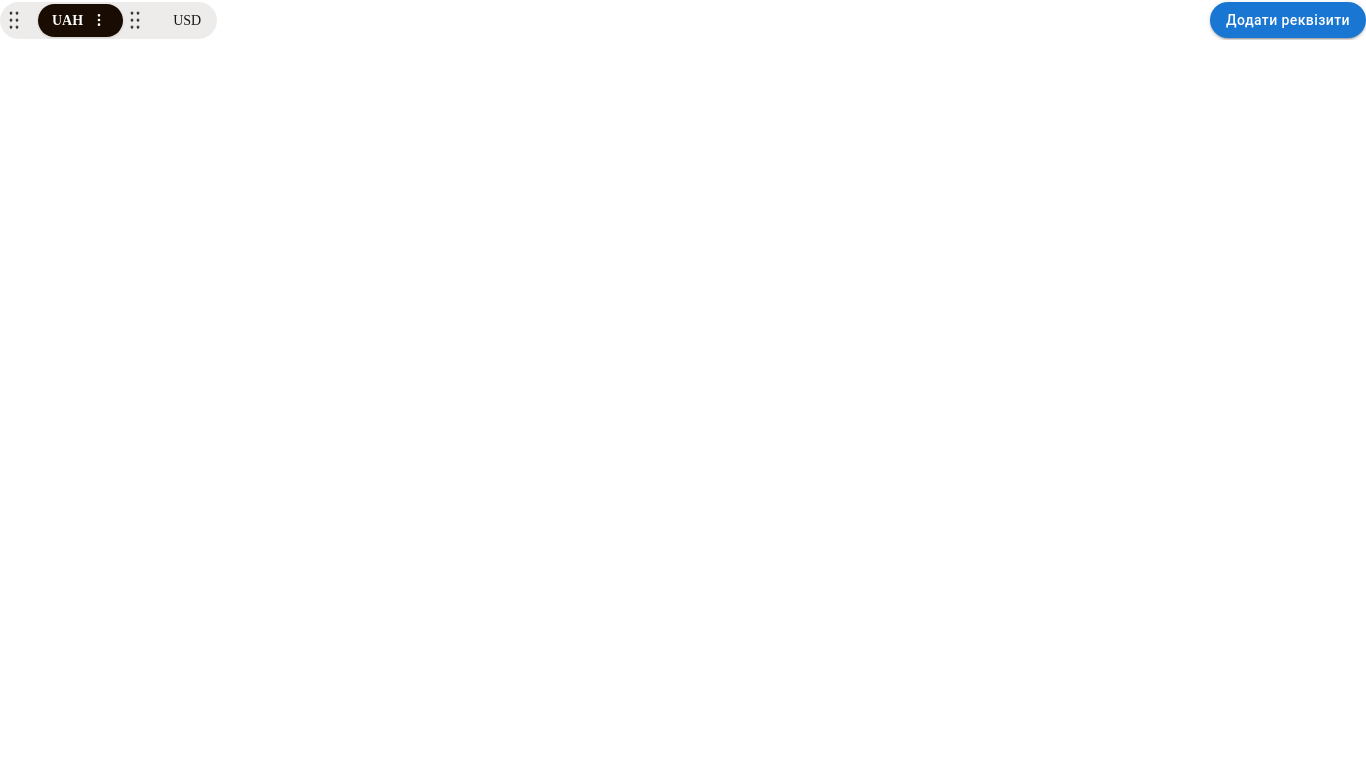
Test: CurrencyTabs › closes confirmation modal without calling onDeleteTab when canceled
What coordinates should you click on to do the following:
click the button named "Опції реквізиту"
I would click on:
 (99, 20)
Its box is [89,10,109,30].
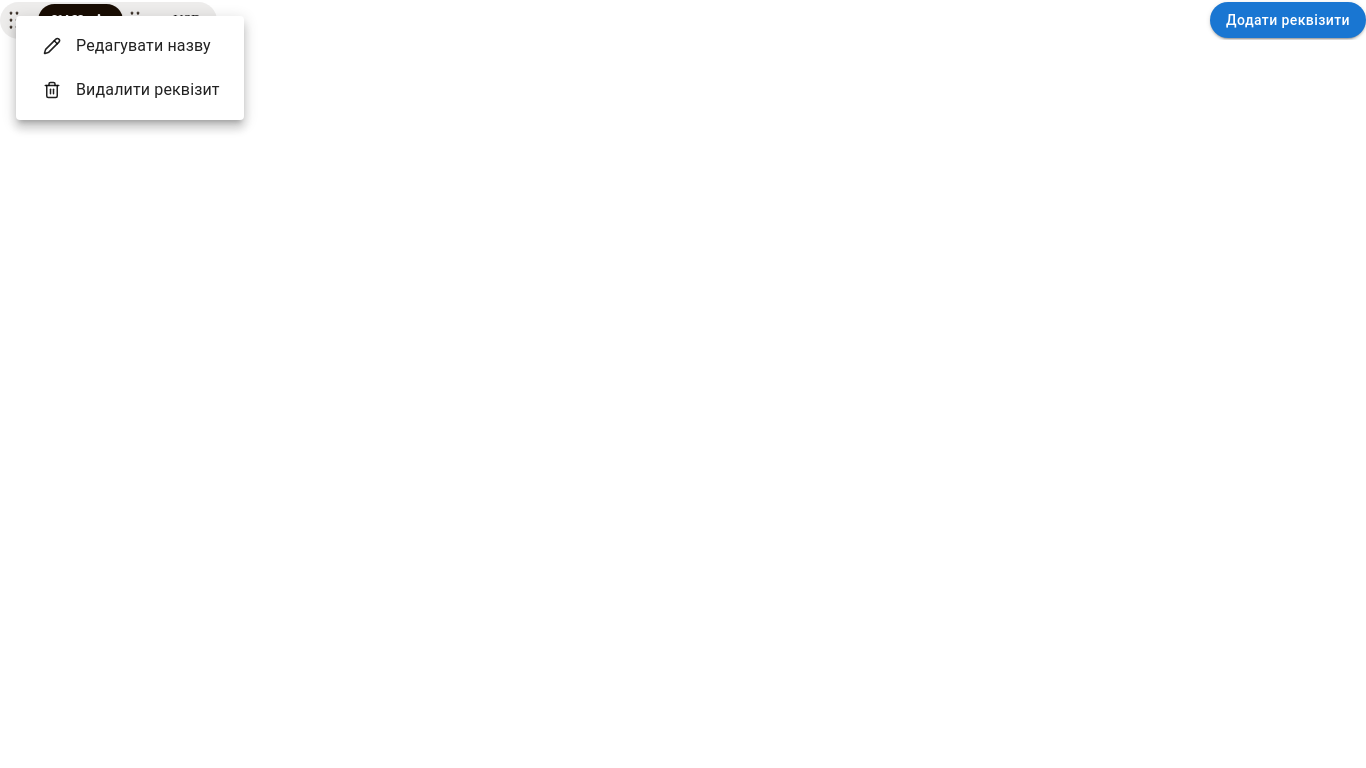
What coordinates should you click on to do the following:
click the menu item "Видалити реквізит"
I would click on:
 (131, 90)
Its box is [43,80,220,99].
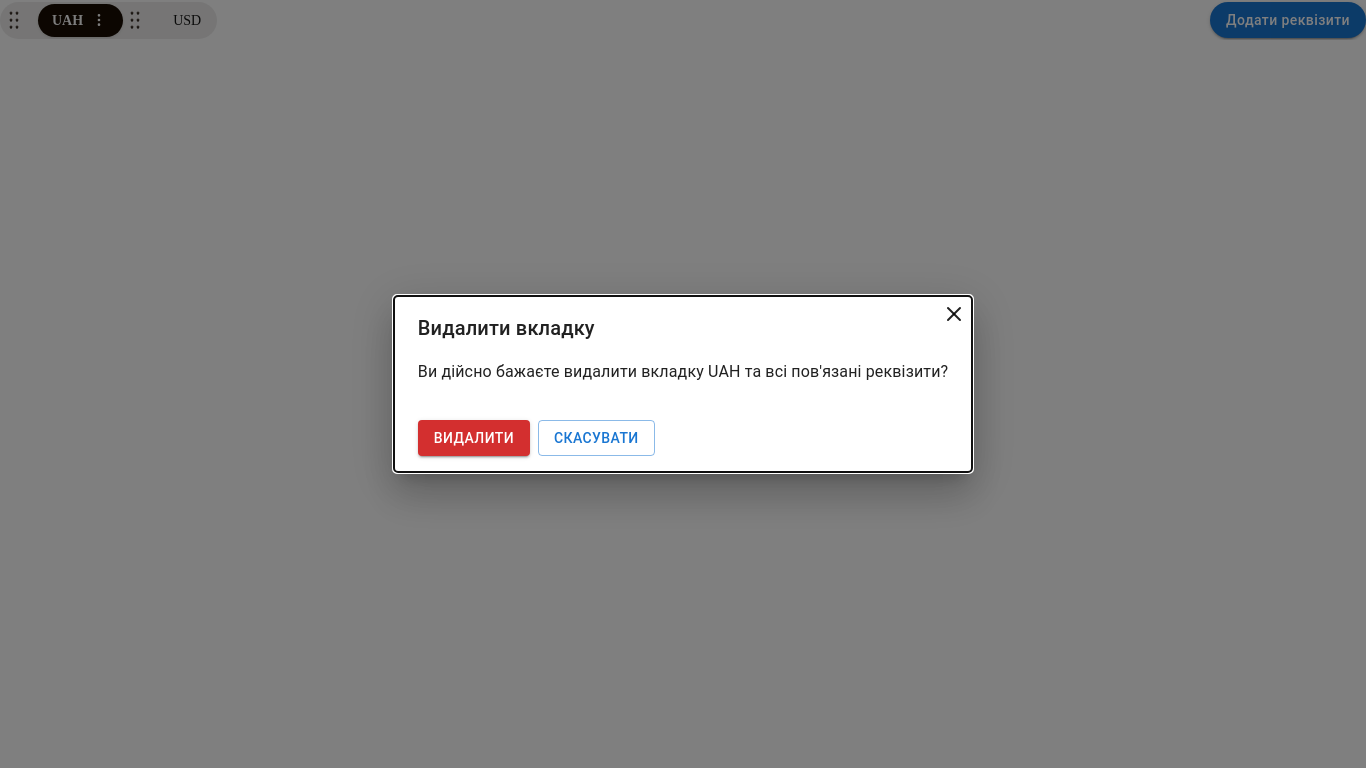
Expected: the heading "Видалити вкладку" is shown, [418,316,595,340]
What coordinates should you click on to do the following:
click the button "Скасувати"
I would click on:
 (596, 438)
Its box is [538,420,655,456].
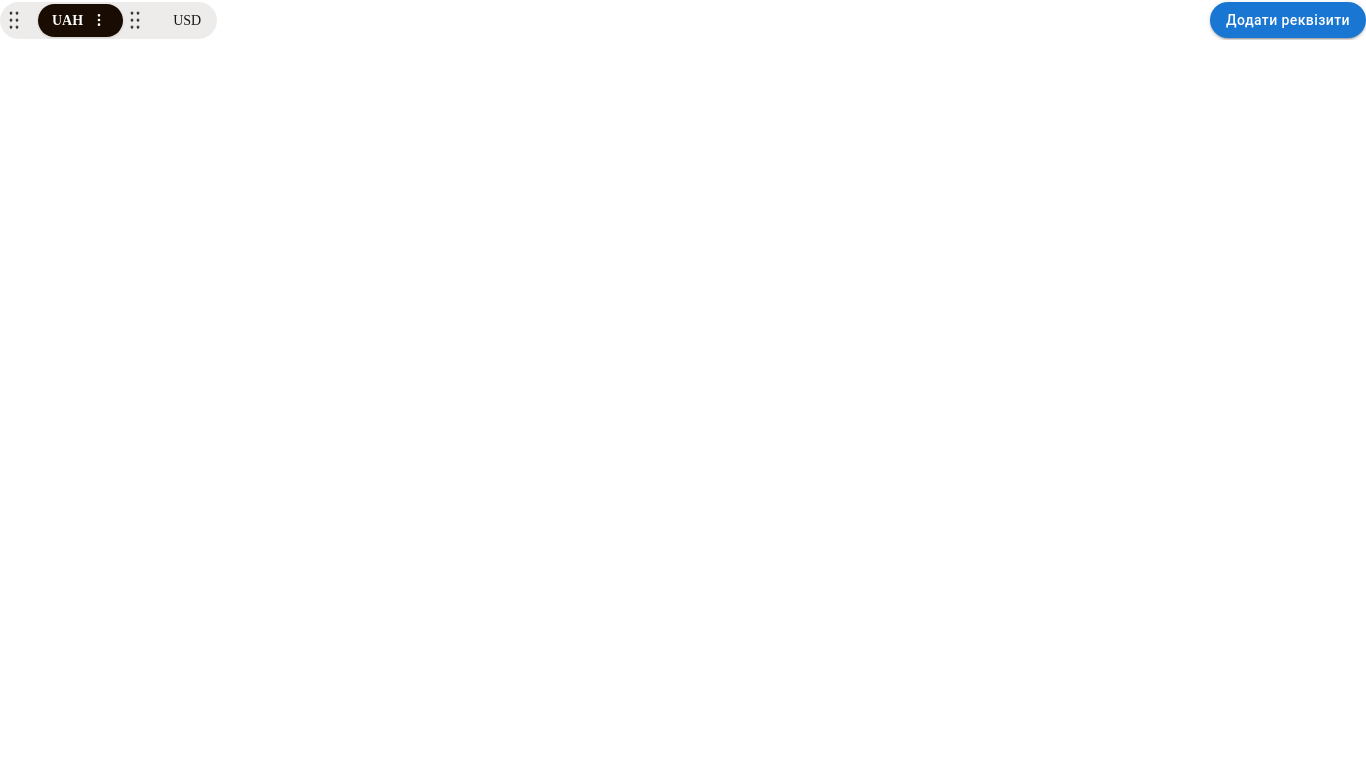
Expected: the heading "Видалити вкладку" is gone
